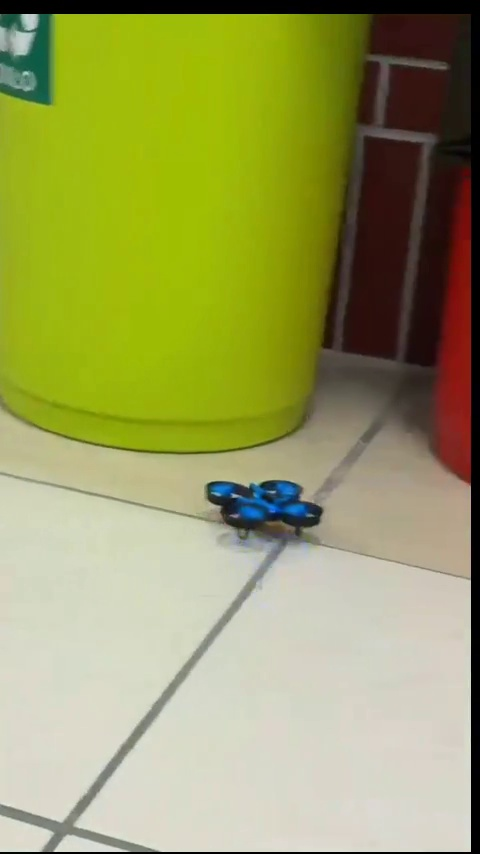drone: (205, 476, 319, 543)
